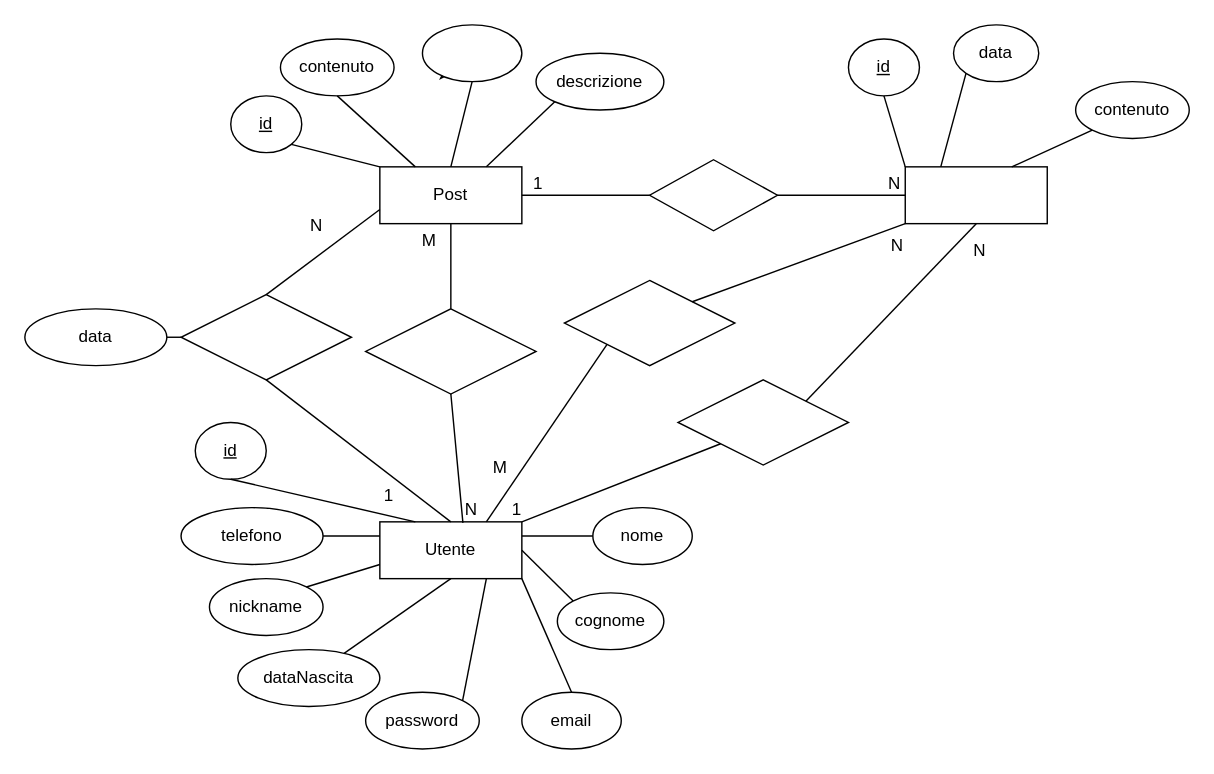
Some shapes in this 1214 by 774 pixel diagram are drawn without their labels. Each missing label, with the centre of its shape:
"Commento" goes at point (975, 194).
"Crea" goes at point (265, 336).
"Ha" goes at point (712, 194).
"luogo" goes at point (471, 52).
"Mette like 1" goes at point (450, 350).
"Mette like 2" goes at point (649, 322).
"Pubblica" goes at point (762, 421).
